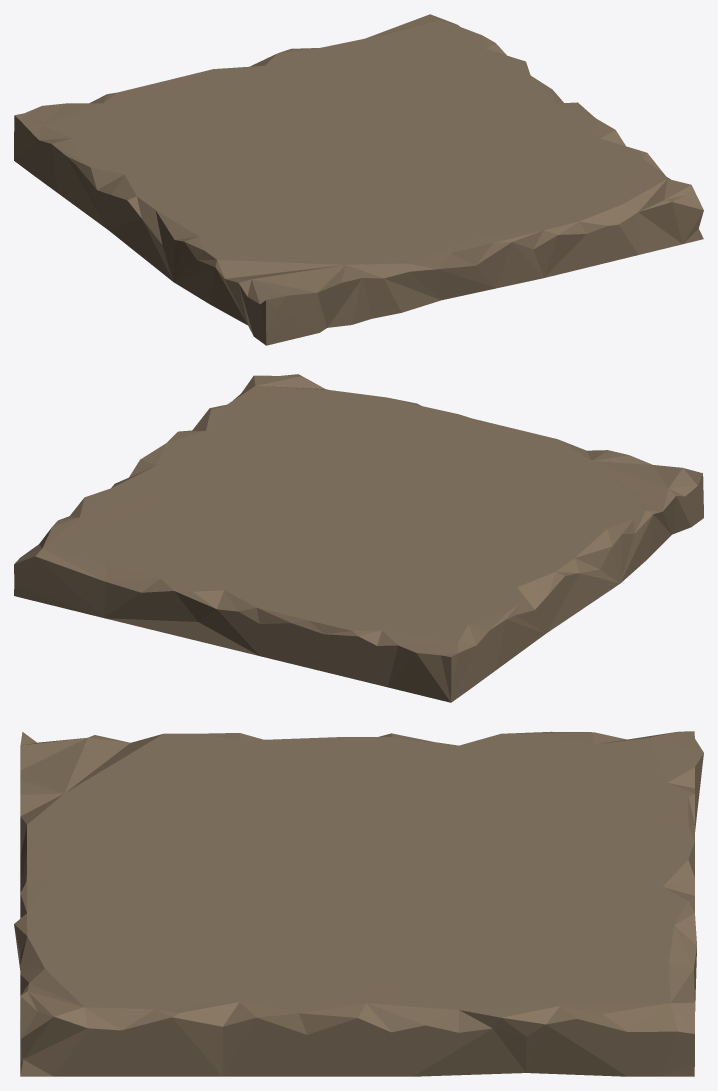
File: Lastra.fbx
The picture shows the model from 3 angles, top to bottom: view 1: azimuth 30°, elevation 25°; view 2: azimuth 150°, elevation 25°; view 3: azimuth 270°, elevation 25°; orthographic projection. The views are drawn at different scales.
Visible parts, largest first — view 1: Lastra; view 2: Lastra; view 3: Lastra.
Part boxes in pixels (x1,y1,x2,y2): Lastra: (14,14,703,345); Lastra: (14,374,703,702); Lastra: (14,731,703,1076).
Bounding box in the file's own units: 2.03 × 0.2004 × 2.05.
